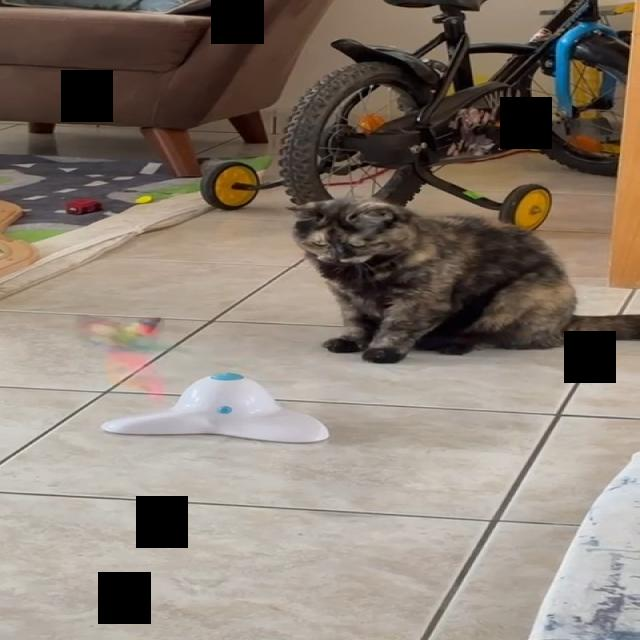authorized: (285, 194, 639, 363)
